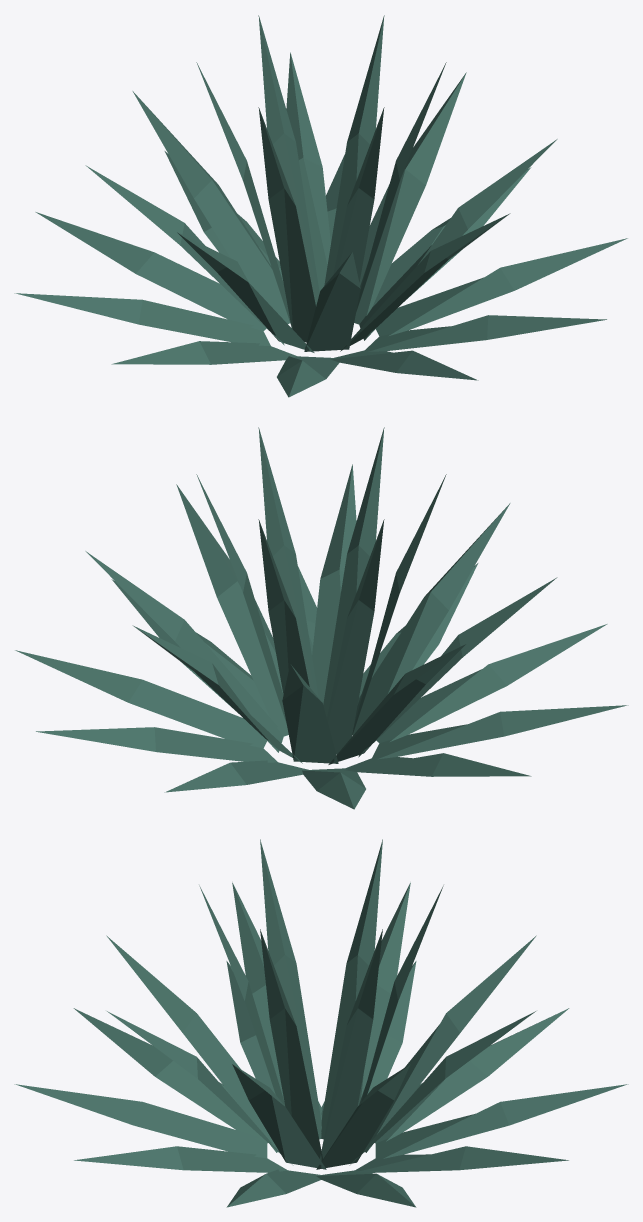
Rendered from maguey.obj.
3 renders of one model, top to bottom at view 1: azimuth 30°, elevation 25°; view 2: azimuth 150°, elevation 25°; view 3: azimuth 270°, elevation 25°, orthographic. The views are drawn at different scales.
Visible parts, largest first — view 1: Maguey_Agave; view 2: Maguey_Agave; view 3: Maguey_Agave.
Part boxes in pixels (<box>): Maguey_Agave: <box>14,15,627,397</box>; Maguey_Agave: <box>15,427,628,809</box>; Maguey_Agave: <box>14,839,628,1207</box>.
Size of the model in its own units: 2.38 by 1.2 by 2.5.
